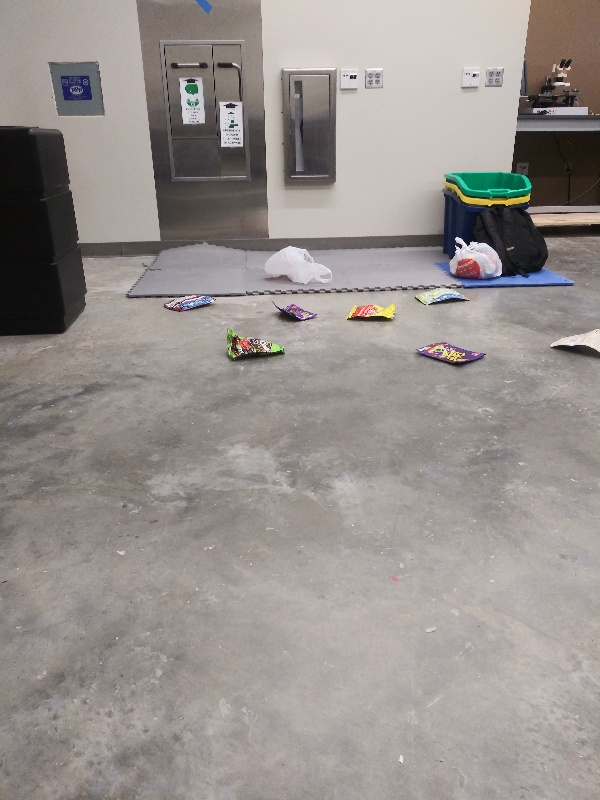bag: (411, 340, 491, 370), (223, 325, 286, 362), (546, 326, 600, 360), (269, 294, 325, 324), (412, 284, 472, 309), (343, 300, 400, 323), (161, 291, 221, 312)
